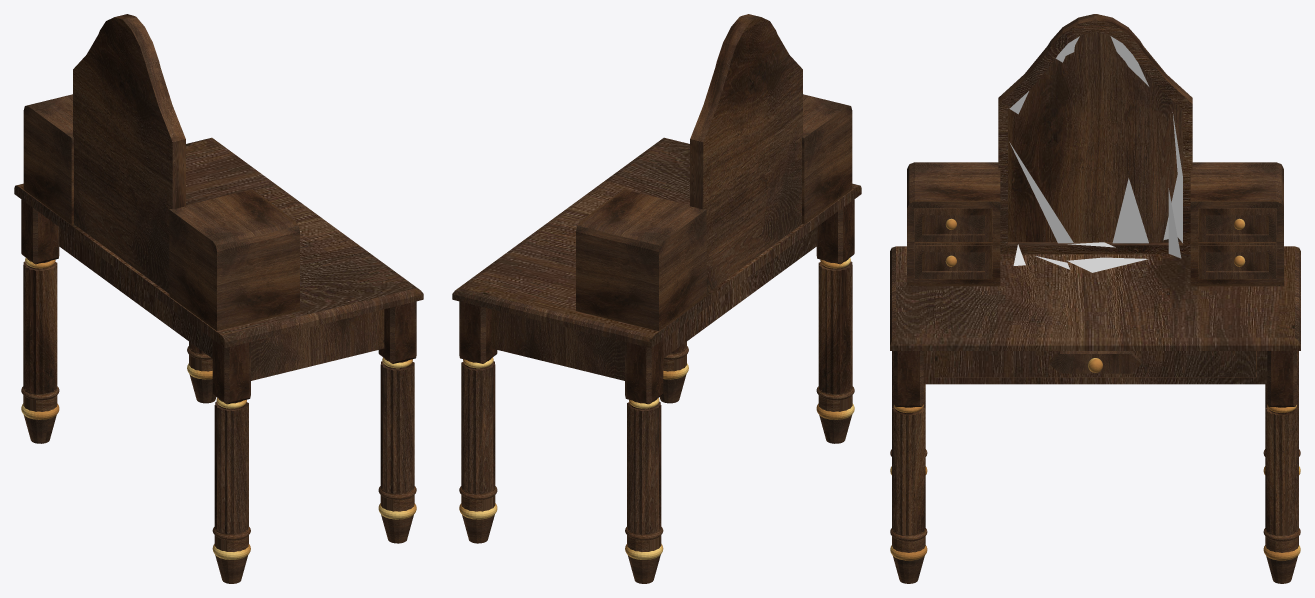
Rendered from Coiffeuse_KOT(1).fbx.
3 renders of one model, left to right at view 1: azimuth 30°, elevation 25°; view 2: azimuth 150°, elevation 25°; view 3: azimuth 270°, elevation 25°, orthographic. The views are drawn at different scales.
Parts seen in each view (by area): view 1: Pieds, Planche, OrnementMiroir, ContenantTiroirHaut; view 2: Pieds, Planche, OrnementMiroir, ContenantTiroirHaut; view 3: Planche, OrnementMiroir, Pieds, ContenantTiroirHaut, Tiroir, Miroir, TioirHaut, TioirHaut.001, TioirHaut.002, TioirHaut.003.
Part boxes in pixels (bbox=[...]): Pieds: bbox=[21, 199, 416, 583]; Planche: bbox=[14, 137, 423, 380]; OrnementMiroir: bbox=[73, 14, 185, 293]; ContenantTiroirHaut: bbox=[23, 94, 299, 330]; Pieds: bbox=[459, 199, 854, 583]; Planche: bbox=[452, 137, 861, 380]; OrnementMiroir: bbox=[690, 14, 802, 293]; ContenantTiroirHaut: bbox=[576, 94, 852, 330]; Planche: bbox=[890, 246, 1300, 384]; OrnementMiroir: bbox=[998, 14, 1192, 254]; Pieds: bbox=[890, 351, 1300, 583]; ContenantTiroirHaut: bbox=[907, 162, 1283, 286]; Tiroir: bbox=[935, 351, 1255, 377]; Miroir: bbox=[1009, 36, 1182, 272]; TioirHaut: bbox=[914, 245, 992, 278]; TioirHaut.001: bbox=[914, 208, 992, 241]; TioirHaut.002: bbox=[1198, 208, 1276, 241]; TioirHaut.003: bbox=[1198, 245, 1276, 278].
Size of the model in its own units: 300 by 711 by 550.
